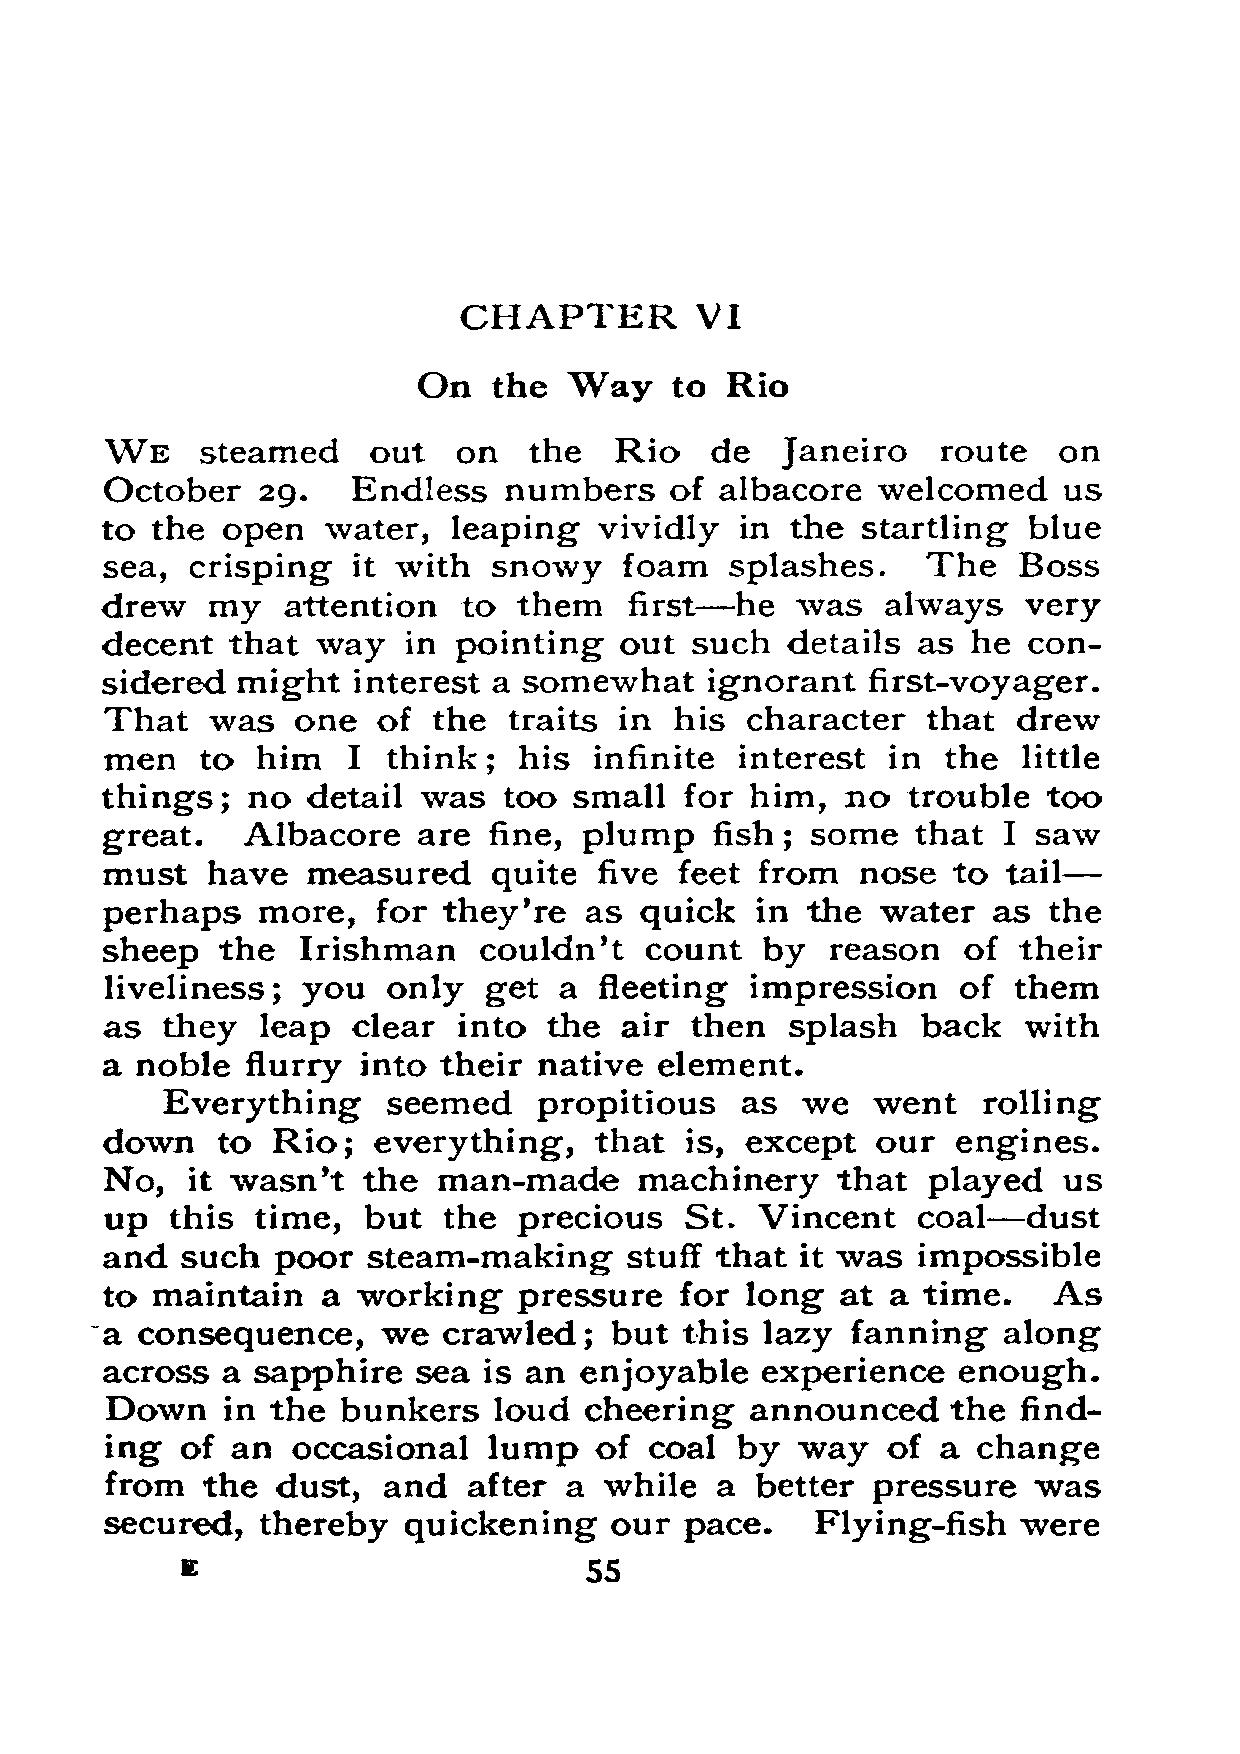chapter: (417, 301, 790, 404)
content: (97, 432, 1102, 1545)
content_pagenumber: (581, 1551, 624, 1588)
